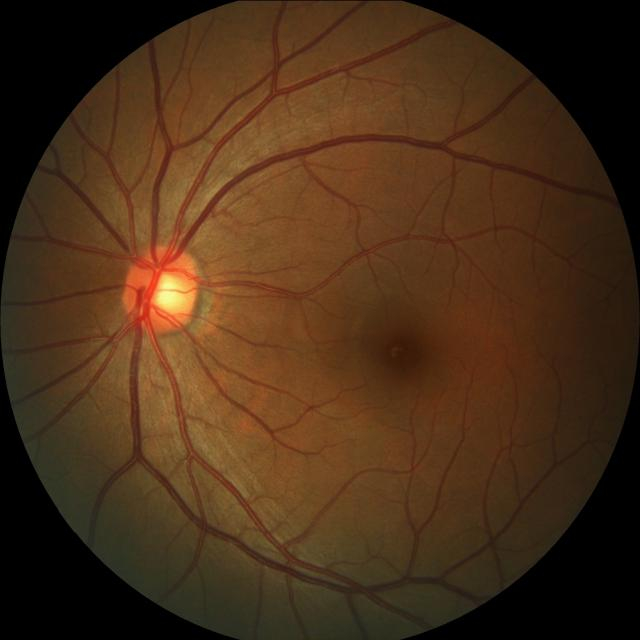OC: (144, 266, 188, 314)
OD: (126, 244, 203, 334)
